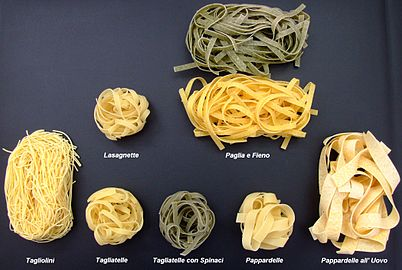plain spaghetti: (318, 131, 400, 254), (178, 79, 320, 145), (184, 1, 311, 73), (8, 133, 74, 244), (233, 193, 299, 256), (87, 189, 148, 249), (162, 194, 212, 250), (94, 89, 150, 139)
